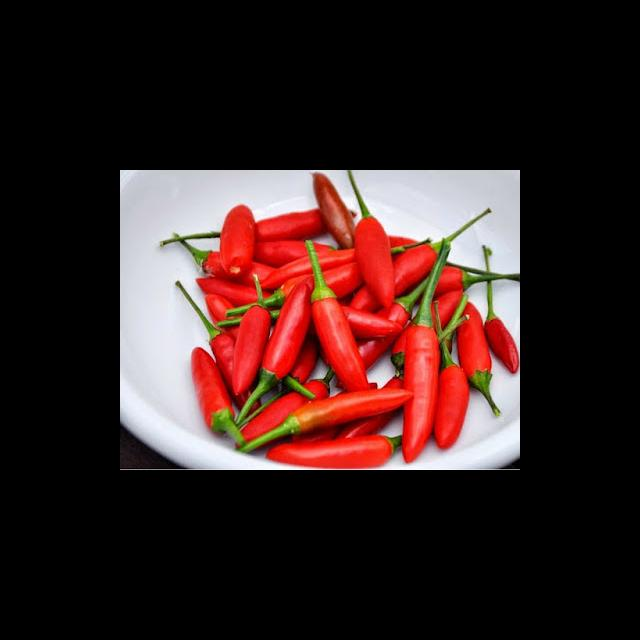chili_pepper: (238, 389, 414, 452), (306, 240, 370, 392), (350, 170, 396, 306), (261, 276, 314, 380), (191, 348, 245, 446), (403, 325, 441, 464), (267, 437, 393, 468), (232, 306, 271, 396), (220, 205, 255, 276)
